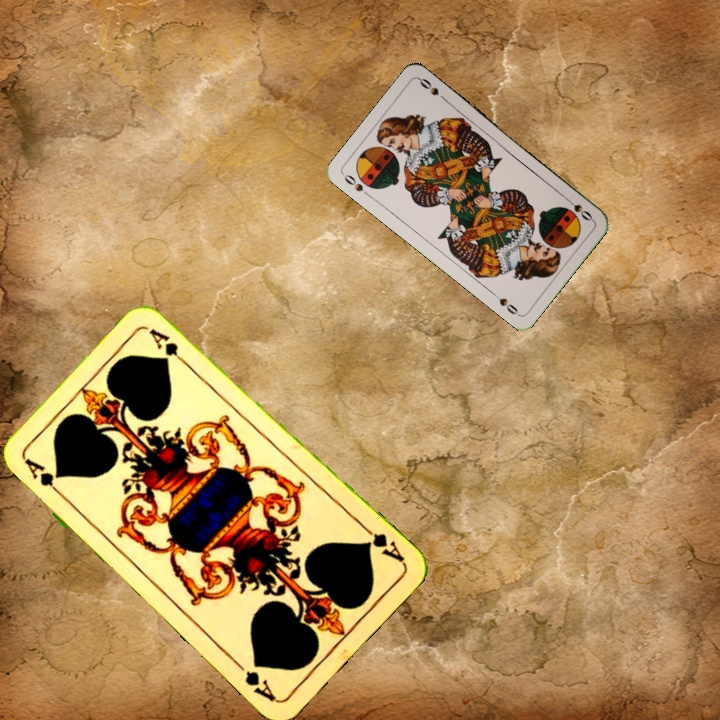GA: (21, 455, 68, 502), (358, 521, 407, 565)
SO: (561, 193, 596, 224), (340, 170, 366, 194)
